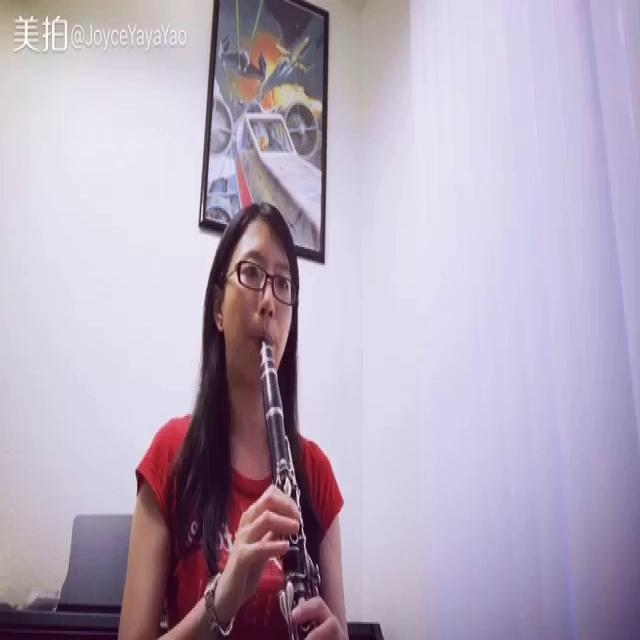Clarinet: (254, 327, 337, 636)
